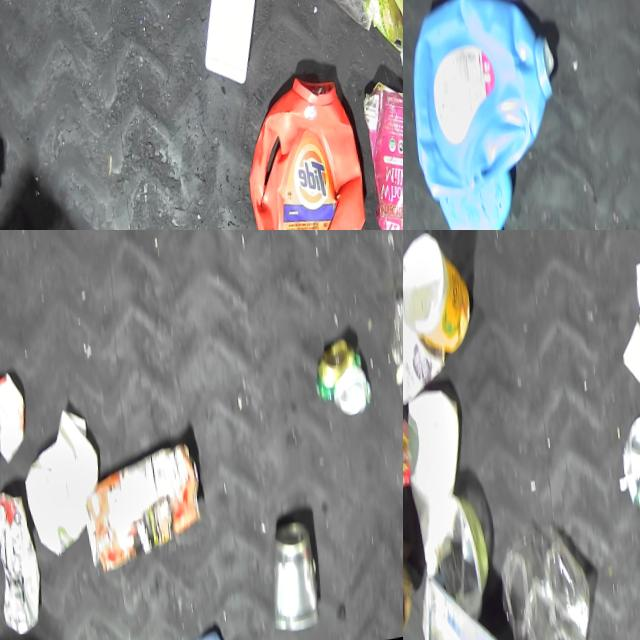can: (261, 516, 330, 640), (304, 329, 372, 437), (607, 406, 640, 533), (310, 0, 386, 48), (403, 405, 419, 500)
milk_jug: (15, 390, 106, 562)
non_white_jug: (403, 0, 563, 209), (227, 63, 374, 230)
